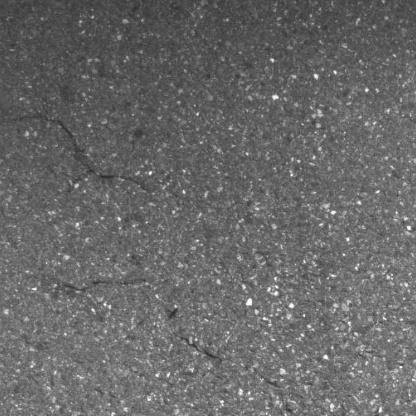Cracks: (10, 112, 152, 197), (55, 275, 151, 297), (170, 330, 226, 365)
